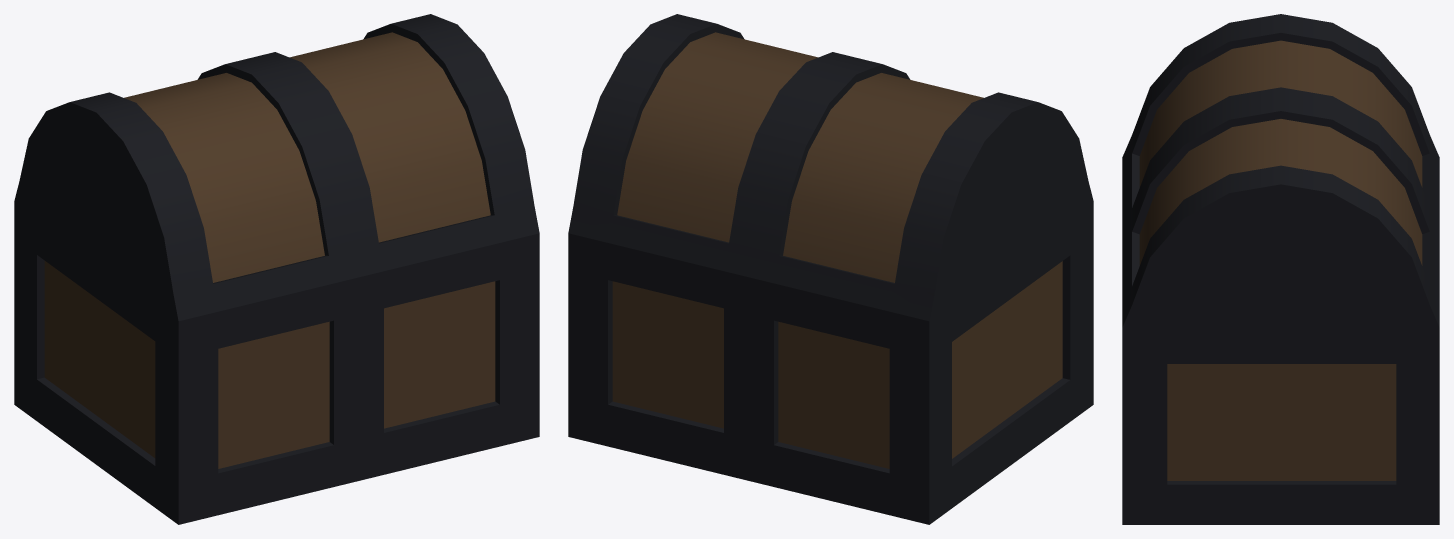
File: chest.FBX
The picture shows the model from 3 angles, left to right: view 1: azimuth 30°, elevation 25°; view 2: azimuth 150°, elevation 25°; view 3: azimuth 270°, elevation 25°; orthographic projection. The views are drawn at different scales.
Visible parts, largest first — view 1: Cylinder001, Object001; view 2: Cylinder001, Object001; view 3: Object001, Cylinder001.
Boxes of the visible parts, box(x1,y1,x2,y2) form: Cylinder001: box(14, 201, 539, 524); Object001: box(14, 14, 539, 321); Cylinder001: box(568, 201, 1093, 524); Object001: box(568, 14, 1093, 321); Object001: box(1122, 14, 1439, 327); Cylinder001: box(1122, 328, 1439, 524).
Bounding box in the file's own units: 23.46 × 21.88 × 18.48.
